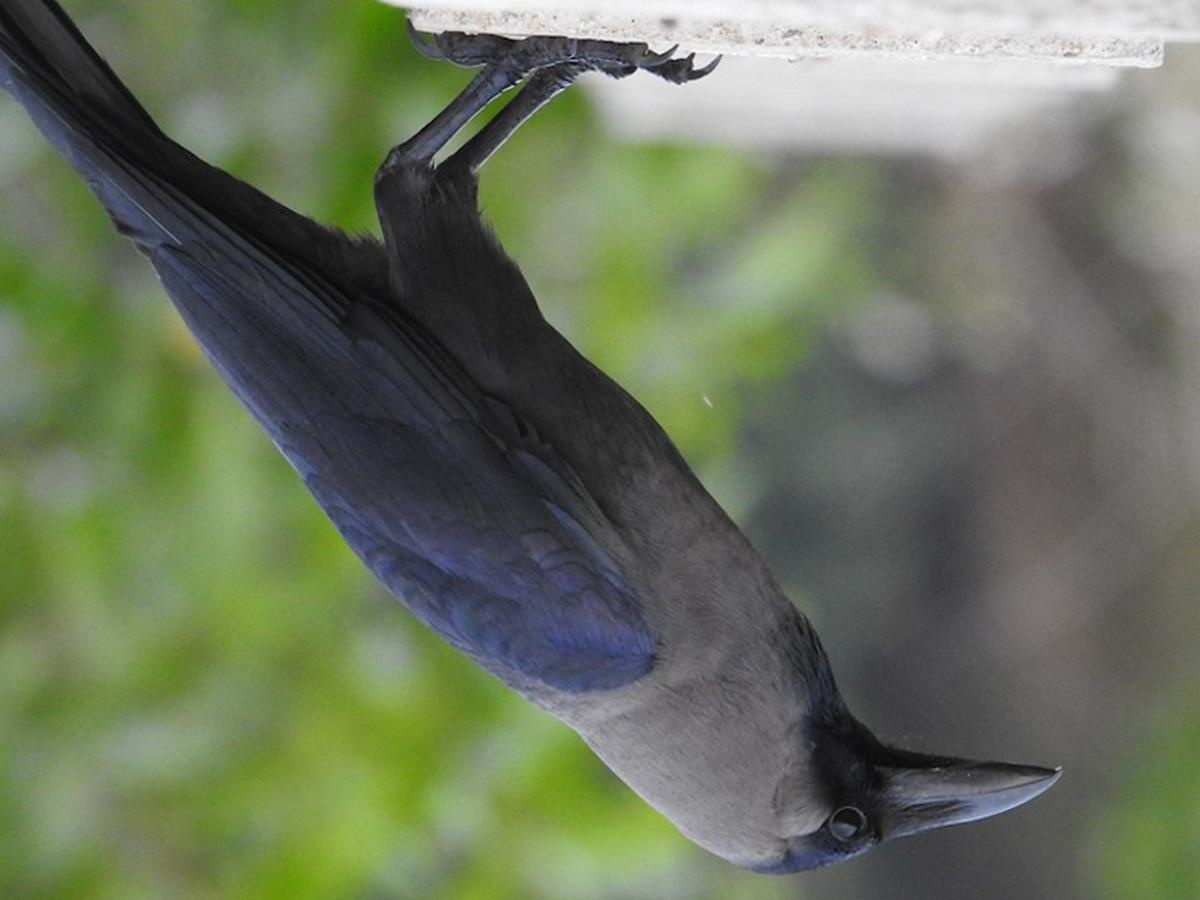crow: (1, 1, 1064, 874)
